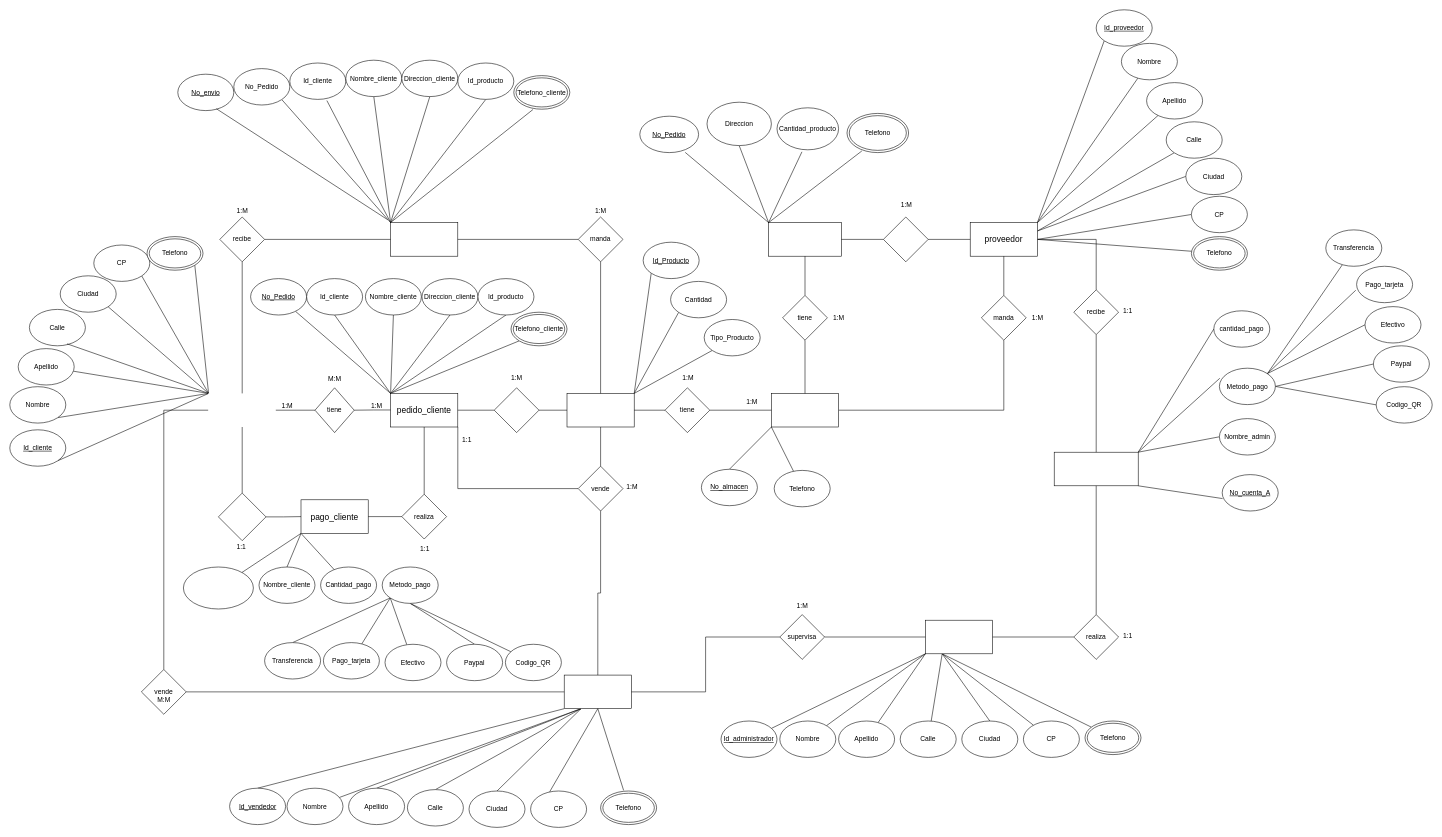
Image size: 1442x837. Some labels were removed from this diagram. The box of each missing label's shape, as (x1, y1, x2, y2) in pixels:
administrador: (925, 620, 993, 654)
almacen: (771, 393, 839, 427)
cliente: (208, 393, 276, 427)
envio: (390, 222, 458, 256)
No_Cuenta_C: (183, 566, 253, 609)
paga: (218, 493, 266, 541)
pago_administrador: (1054, 452, 1138, 486)
pedido_proveedor: (768, 222, 841, 256)
pide: (494, 387, 539, 433)
producto: (566, 393, 634, 427)
solicita: (883, 216, 928, 262)
vendedor: (564, 675, 631, 709)
